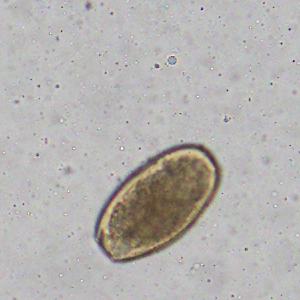Fasciola_hepatica_egg: (92, 142, 223, 263)
